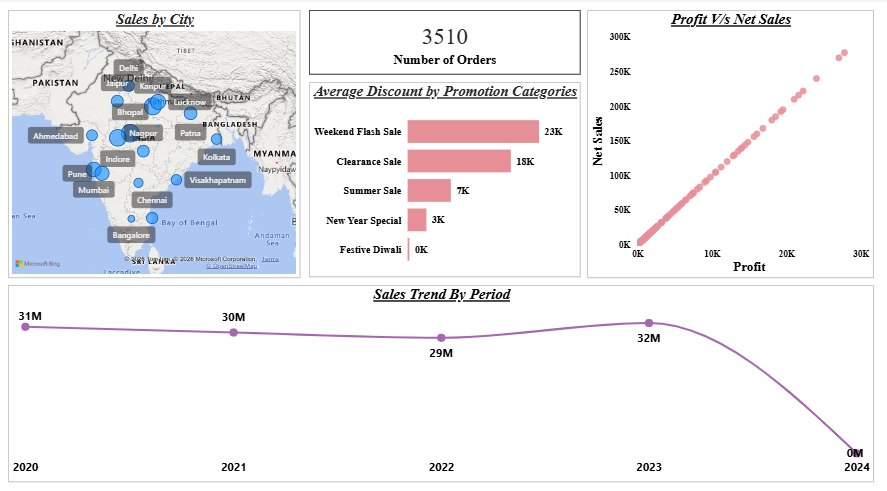

Layout of this report page (visuals, bound fields, positions):
{"tool":"powerbi","page":{"name":"Overview","canvas":[1280,720],"ordinal":0},"visuals":[{"type":"lineChart","title":"Sales Trend By Period","fields":{"Y":["Sum(Fact Table.Net Sales)"],"Category":["Date Table 1.Date.Variation.Date Hierarchy.Year","Date Table 1.Date.Variation.Date Hierarchy.Quarter","Date Table 1.Date.Variation.Date Hierarchy.Month","Date Table 1.Date.Variation.Date Hierarchy.Day"]},"box":[12.9,412.9,1247.1,284.3],"z":0},{"type":"scatterChart","title":"Profit V/s Net Sales","fields":{"X":["Fact Table.Profit"],"Y":["Fact Table.Net Sales"]},"box":[847.1,17.1,412.9,385.7],"z":1000},{"type":"barChart","title":"Average Discount by Promotion Categories","fields":{"Y":["Avg(Fact Table.Discount Value)"],"Category":["Dim Promotion.Promotion Name"]},"box":[445.7,121.4,391.4,281.4],"z":2000},{"type":"map","title":"Sales by City","fields":{"Category":["Dim Customers.City"],"Size":["Sum(Fact Table.Net Sales)"]},"box":[12.9,17.1,421.4,385.7],"z":3000},{"type":"card","fields":{"Values":["Count(Fact Table.Index)"]},"box":[445.7,17.1,391.4,92.9],"z":4000}]}

Visuals, with their boxes in screenshot pixels (x1, y1, x2, y2), scaled from the page's 1280x720 canvas onto the 887x491 screenshot:
"Sales Trend By Period" lineChart: 9,282,873,475
"Profit V/s Net Sales" scatterChart: 587,12,873,275
"Average Discount by Promotion Categories" barChart: 309,83,580,275
"Sales by City" map: 9,12,301,275
card - Count(Fact Table.Index): 309,12,580,75
